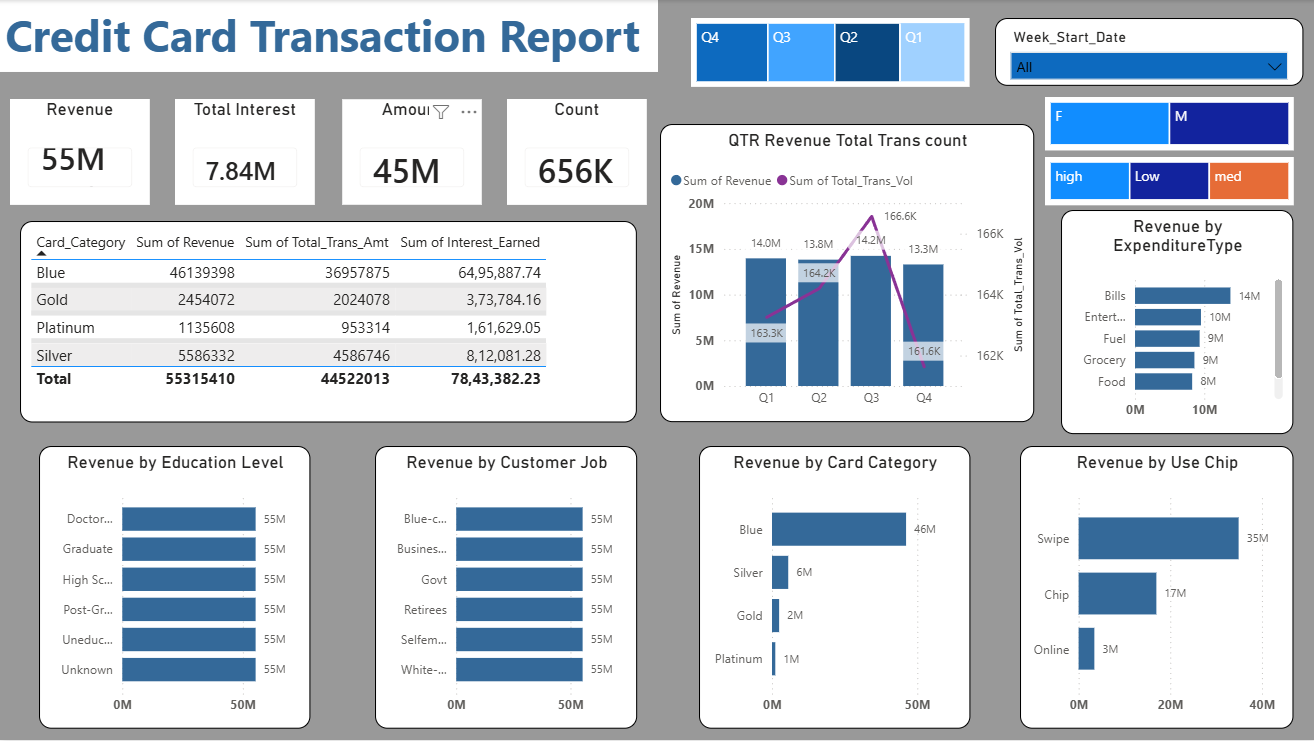

What the dashboard file says about the page in this screenshot:
{"tool":"powerbi","page":{"name":"Page 2","canvas":[1280,720],"ordinal":1},"visuals":[{"type":"textbox","box":[0,0,640,70],"z":0},{"type":"lineStackedColumnComboChart","title":"QTR Revenue Total Trans count","fields":{"Category":["credit_card.Qtr"],"Y":["Sum(credit_card.Revenue)"],"Y2":["Sum(credit_card.Total_Trans_Vol)"]},"box":[641.9,120.6,363.8,289.8],"z":1000},{"type":"clusteredBarChart","title":"Revenue by ExpenditureType","fields":{"Category":["credit_card.Exp Type"],"Y":["Sum(credit_card.Revenue)"]},"box":[1032,204.3,225.7,217.9],"z":2000},{"type":"clusteredBarChart","title":"Revenue by Customer Job","fields":{"Category":["cust_add.Customer_Job"],"Y":["Sum(credit_card.Revenue)"]},"box":[364.7,433.8,254.8,275.3],"z":3000},{"type":"clusteredBarChart","title":"Revenue by Education Level","fields":{"Category":["cust_add.Education_Level"],"Y":["Sum(credit_card.Revenue)"]},"box":[37.9,433.8,263.6,275.3],"z":4000},{"type":"clusteredBarChart","title":"Revenue by Card Category","fields":{"Y":["Sum(credit_card.Revenue)"],"Category":["credit_card.Card_Category"]},"box":[679.9,433.8,263.6,275.3],"z":5000},{"type":"clusteredBarChart","title":"Revenue by Use Chip","fields":{"Y":["Sum(credit_card.Revenue)"],"Category":["credit_card.Use Chip"]},"box":[992.1,433.8,265.5,275.3],"z":6000},{"type":"tableEx","fields":{"Values":["credit_card.Card_Category","Sum(credit_card.Revenue)","Sum(credit_card.Total_Trans_Amt)","Sum(credit_card.Interest_Earned)"]},"box":[19.5,215,600.1,195.5],"z":7000},{"type":"cardVisual","title":"Revenue","fields":{"Data":["Sum(credit_card.Revenue)"]},"box":[9.7,96.3,136,103],"z":8000},{"type":"cardVisual","title":"Total Interest","fields":{"Data":["Sum(credit_card.Interest_Earned)"]},"box":[170.2,96.3,136,103],"z":9000},{"type":"cardVisual","title":"Amount","fields":{"Data":["Sum(credit_card.Total_Trans_Amt)"]},"box":[332.6,96.3,136,103.1],"z":10000},{"type":"cardVisual","title":"Count","fields":{"Data":["Sum(credit_card.Total_Trans_Vol)"]},"box":[493.1,96.3,136,103.1],"z":11000},{"type":"slicer","fields":{"Values":["credit_card.Week_Start_Date"]},"box":[967.8,17.5,299.6,66.1],"z":11001},{"type":"treemap","fields":{"Group":["credit_card.Qtr"],"Values":["Sum(credit_card.ï»¿Client_Num)"]},"box":[672.1,17.5,271.4,67.1],"z":11002},{"type":"treemap","fields":{"Group":["cust_add.Gender"],"Values":["Sum(credit_card.ï»¿Client_Num)"]},"box":[1016.4,94.3,242.2,51.6],"z":11003},{"type":"treemap","fields":{"Values":["Sum(credit_card.Credit_Limit)"],"Group":["cust_add.IncomeGroup"]},"box":[1016.4,152.7,242.2,46.7],"z":11004}]}

Visuals, with their boxes in screenshot pixels (x1, y1, x2, y2), scaled from the page's 1280x720 canvas onto the 1314x741 screenshot:
textbox: bbox=(0, 0, 657, 72)
"QTR Revenue Total Trans count" lineStackedColumnComboChart: bbox=(659, 124, 1032, 422)
"Revenue by ExpenditureType" clusteredBarChart: bbox=(1059, 210, 1291, 435)
"Revenue by Customer Job" clusteredBarChart: bbox=(374, 446, 636, 730)
"Revenue by Education Level" clusteredBarChart: bbox=(39, 446, 310, 730)
"Revenue by Card Category" clusteredBarChart: bbox=(698, 446, 969, 730)
"Revenue by Use Chip" clusteredBarChart: bbox=(1018, 446, 1291, 730)
tableEx - credit_card.Card_Category x Sum(credit_card.Revenue): bbox=(20, 221, 636, 422)
"Revenue" cardVisual: bbox=(10, 99, 150, 205)
"Total Interest" cardVisual: bbox=(175, 99, 314, 205)
"Amount" cardVisual: bbox=(341, 99, 481, 205)
"Count" cardVisual: bbox=(506, 99, 646, 205)
slicer - credit_card.Week_Start_Date: bbox=(994, 18, 1301, 86)
treemap - credit_card.Qtr x Sum(credit_card.ï»¿Client_Num): bbox=(690, 18, 969, 87)
treemap - cust_add.Gender x Sum(credit_card.ï»¿Client_Num): bbox=(1043, 97, 1292, 150)
treemap - Sum(credit_card.Credit_Limit) x cust_add.IncomeGroup: bbox=(1043, 157, 1292, 205)
